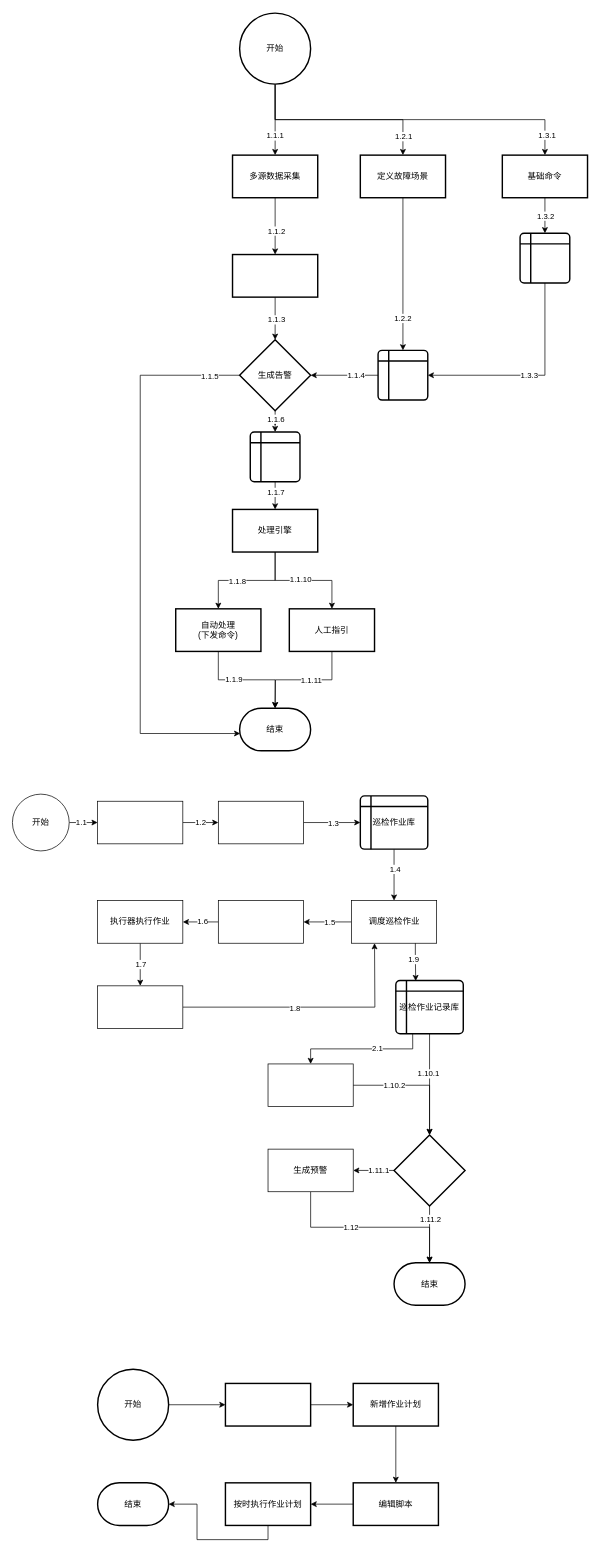
This 601x1558 diagram has some shape labels left out. Here are the shapes that lost their labels. From the top down, the centre of each, then its label:
(274,275): 解析汇聚
(544,257): 命令库
(402,374): 故障树
(274,456): 告警库
(140,822): 配置巡检作业
(261,822): 配置RPA流程
(261,921): 下发作业
(140,1006): 回传作业记录
(310,1085): 建立和优化预测模型
(429,1170): 评估风险等级
(267,1404): 配置任务模板
